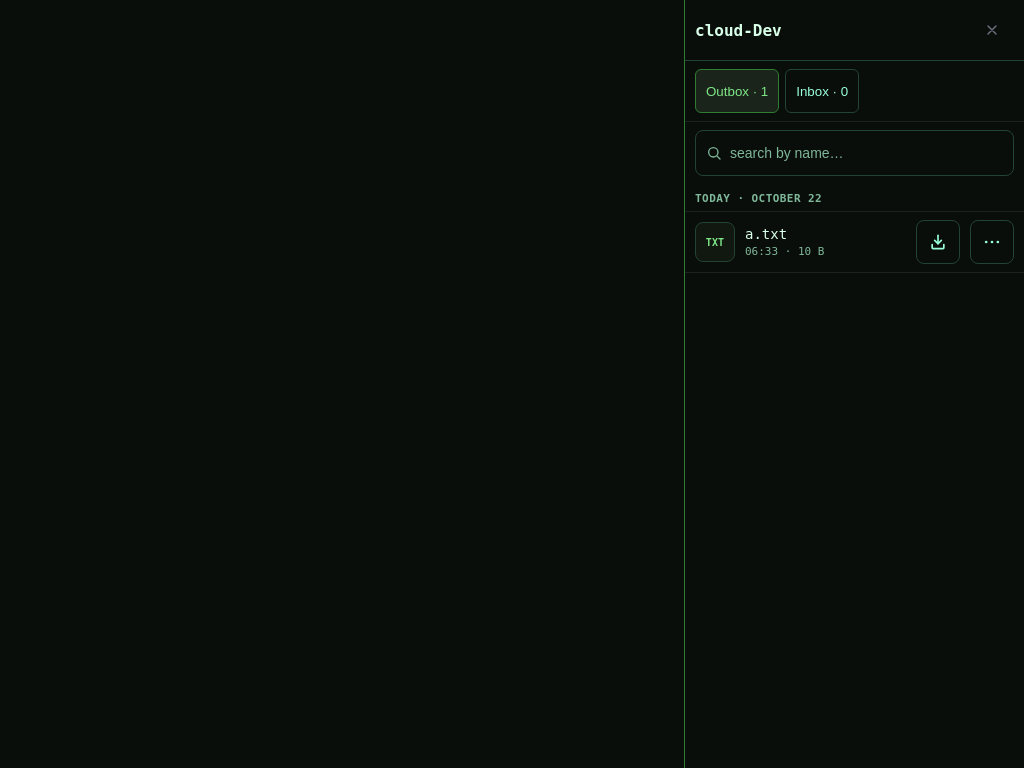
Test: FilesPanel foglio — dopo un errore il foglio resta usabile (entrambe le viste) › vista mobile › anteprima fallita: Scarica, Copia ed Elimina abilitati nello stesso foglio
Expected: the text "a.txt" is shown, [745, 226, 787, 242]
Click the button titled "file actions": {"x": 992, "y": 242} [970, 220, 1014, 264]
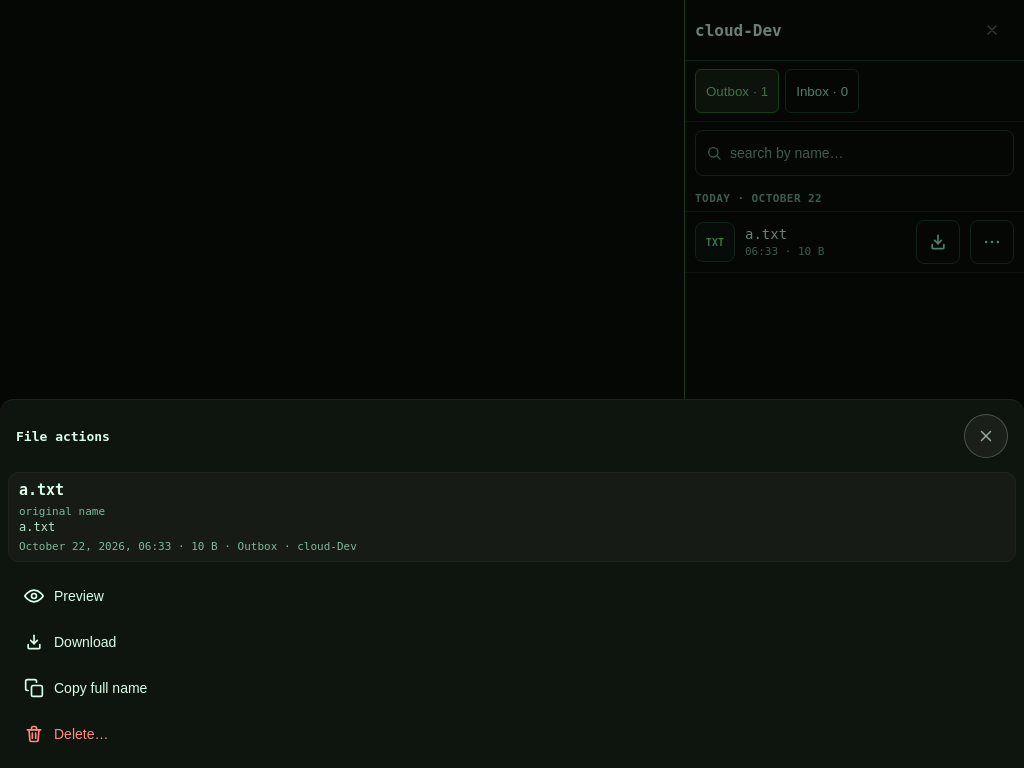
Result: the element with test id "file-actions-sheet" is shown
Click the menu item "Preview": {"x": 79, "y": 596} [12, 574, 1012, 618]
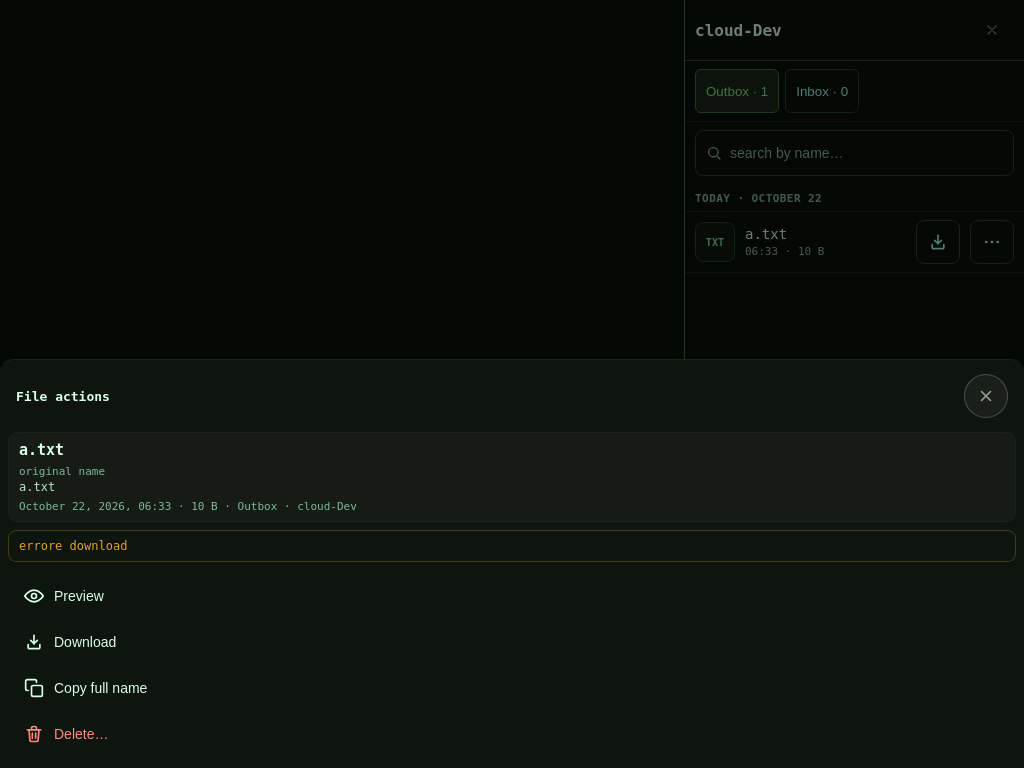
Result: the text "errore download" is shown at [8, 530, 1016, 562]
